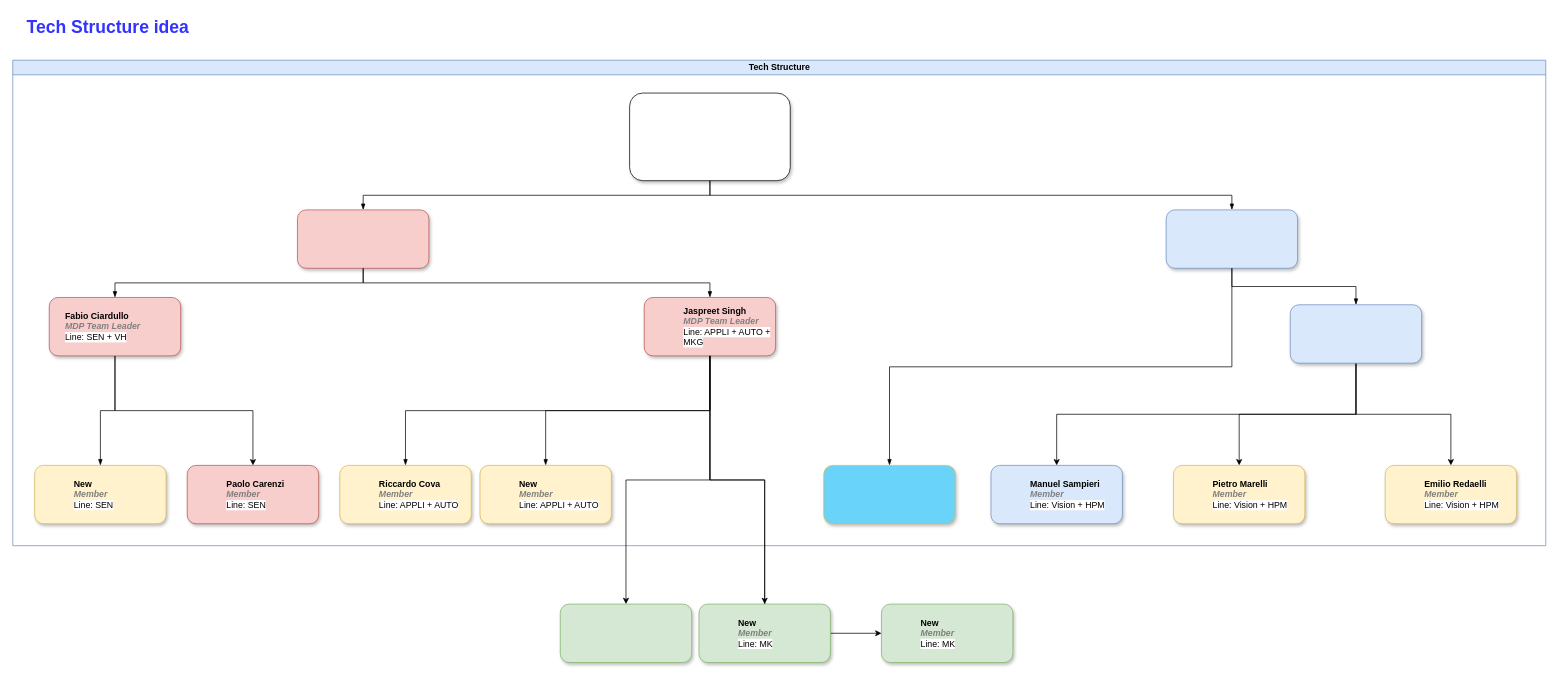
Image size: 1559x680. Some labels were removed from this diagram. The shapes that lost their labels are listed below. From the top down, each one's centre as x and y in pixels, then its label:
At [710,137]: "Eugenio Meregalli Senior Tech Manager Line: ALL".
At [363,239]: "Federico Butti Manager Line: SEN + APP".
At [1232,239]: "Giovanni Egitto MDP Manager Line: V&M + IM".
At [1356,334]: "Simona Cavalli MDP Team Leader Line: Vision + HPM".
At [890,495]: "Caterina Putti Member Line: IM + HPM + XM".
At [626,634]: "Sebastiano Panfili Member Line: ML".
